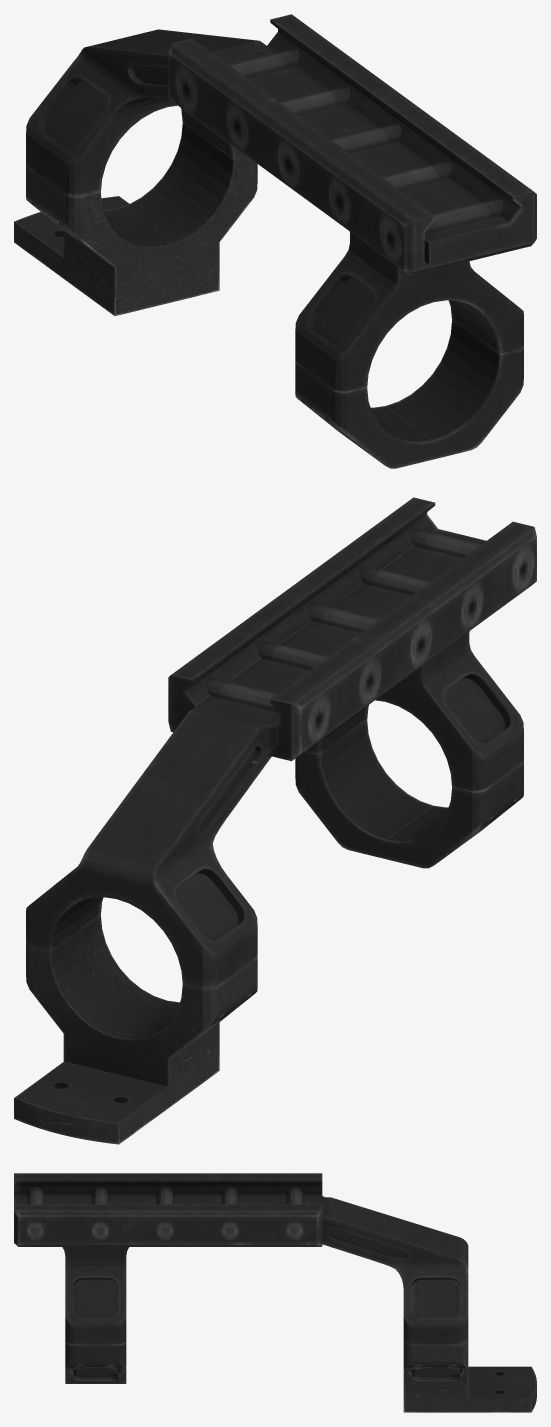
3 views of the same model, one above another, from view 1: azimuth 30°, elevation 25°; view 2: azimuth 150°, elevation 25°; view 3: azimuth 270°, elevation 25° (orthographic). The views are drawn at different scales.
Visible parts, largest first — view 1: TW_5a37ca54c4a282000d72296a_PZ_Import; view 2: TW_5a37ca54c4a282000d72296a_PZ_Import; view 3: TW_5a37ca54c4a282000d72296a_PZ_Import.
Part boxes in pixels (box(x1,y1,x2,y2)): TW_5a37ca54c4a282000d72296a_PZ_Import: box(14, 14, 536, 468); TW_5a37ca54c4a282000d72296a_PZ_Import: box(14, 497, 536, 1144); TW_5a37ca54c4a282000d72296a_PZ_Import: box(14, 1173, 536, 1412).
Size of the model in its own units: 0.0249 by 0.0932 by 0.0405.
1 material, 1 textured.
